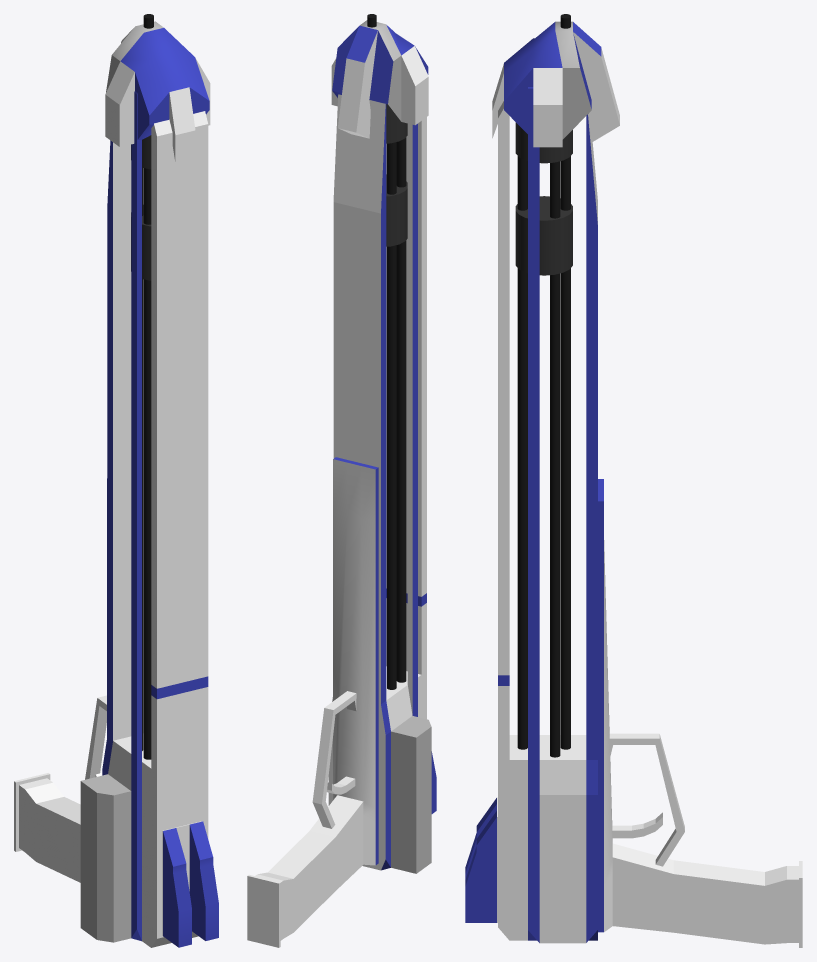
The model's file is 重機槍.fbx.
The picture shows the model from 3 angles, left to right: view 1: azimuth 30°, elevation 25°; view 2: azimuth 150°, elevation 25°; view 3: azimuth 270°, elevation 25°; orthographic projection. The views are drawn at different scales.
Visible parts, largest first — view 1: 機槍槍身001, 槍口, 瞄准器, 槍管 (×2), 重機槍, 扳機保護006, 槍管管理; view 2: 機槍槍身001, 重機槍, 槍管 (×2), 槍口, 扳機保護006, 槍管管理, 扳機保護005, 槍管管理001; view 3: 機槍槍身001, 重機槍, 槍管 (×3), 槍口, 瞄准器, 槍管管理, 扳機保護005, 槍管管理001.
Part boxes in pixels (<box>): 機槍槍身001: <box>80,91,208,947</box>; 槍口: <box>105,21,210,162</box>; 瞄准器: <box>162,821,218,947</box>; 槍管 (×2): <box>142,167,151,759</box>; 重機槍: <box>14,478,107,882</box>; 扳機保護006: <box>85,696,106,779</box>; 槍管管理: <box>131,205,151,280</box>; 機槍槍身001: <box>328,94,431,873</box>; 重機槍: <box>247,457,378,947</box>; 槍管 (×2): <box>387,137,406,689</box>; 槍口: <box>331,20,428,138</box>; 扳機保護006: <box>317,692,356,828</box>; 槍管管理: <box>386,174,407,246</box>; 扳機保護005: <box>312,691,351,827</box>; 槍管管理001: <box>386,104,407,143</box>; 機槍槍身001: <box>498,87,597,943</box>; 重機槍: <box>598,479,802,947</box>; 槍管 (×3): <box>517,156,570,757</box>; 槍口: <box>492,21,619,147</box>; 瞄准器: <box>465,797,497,922</box>; 槍管管理: <box>515,196,572,275</box>; 扳機保護005: <box>609,736,684,866</box>; 槍管管理001: <box>515,122,572,163</box>.
Bounding box in the file's own units: 20.58 × 174 × 57.79.
